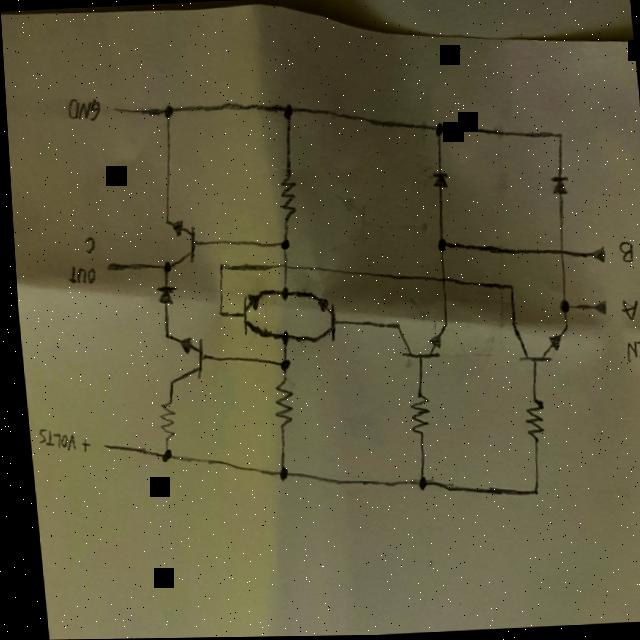diode: (544, 172, 572, 204), (148, 281, 176, 311), (427, 167, 449, 196)
junction: (276, 98, 303, 129), (158, 100, 181, 129), (425, 119, 449, 146), (266, 463, 288, 490), (272, 282, 292, 309), (407, 473, 427, 499), (429, 236, 450, 259), (209, 258, 230, 281), (151, 447, 172, 469), (271, 325, 289, 350), (430, 272, 450, 294), (496, 279, 515, 302), (549, 127, 567, 151), (270, 354, 289, 376), (553, 299, 571, 319), (156, 257, 173, 278), (211, 303, 227, 325), (272, 236, 291, 253), (521, 483, 537, 503), (274, 258, 290, 278), (550, 246, 565, 262)
resistor: (401, 389, 430, 441), (517, 398, 545, 449), (273, 169, 298, 224), (267, 378, 292, 432), (147, 399, 174, 443)
terminal: (90, 436, 122, 460), (104, 101, 132, 122), (96, 258, 122, 280), (580, 299, 606, 320), (579, 247, 605, 268)
text: (31, 423, 73, 455), (64, 93, 102, 127), (63, 265, 97, 290), (620, 336, 640, 367), (612, 240, 633, 268), (616, 298, 636, 325), (80, 236, 95, 256), (74, 437, 87, 454)
transistor: (504, 322, 570, 370), (387, 321, 452, 367), (161, 332, 205, 388), (303, 289, 337, 350), (235, 286, 268, 346), (165, 218, 198, 269)
